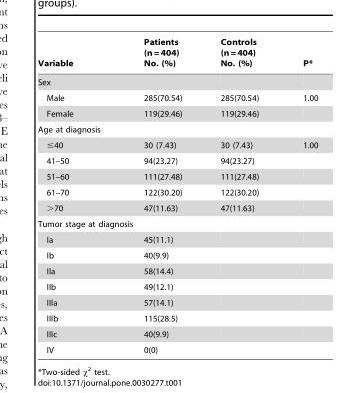table: (37, 37, 317, 354)
table column: (37, 37, 137, 354), (200, 37, 280, 354), (137, 37, 200, 354), (280, 37, 317, 354)
table column header: (37, 37, 317, 72)
table projected row header: (37, 72, 317, 89), (37, 215, 317, 231), (37, 121, 317, 136)
table row: (37, 37, 317, 72), (37, 72, 317, 89), (37, 89, 317, 105), (37, 105, 317, 121), (37, 136, 317, 152), (37, 152, 317, 168), (37, 168, 317, 184), (37, 199, 317, 215), (37, 215, 317, 231), (37, 231, 317, 247), (37, 247, 317, 263), (37, 278, 317, 294), (37, 294, 317, 310), (37, 310, 317, 326), (37, 121, 317, 136), (37, 184, 317, 199), (37, 263, 317, 278), (37, 326, 317, 341), (37, 341, 317, 354)
